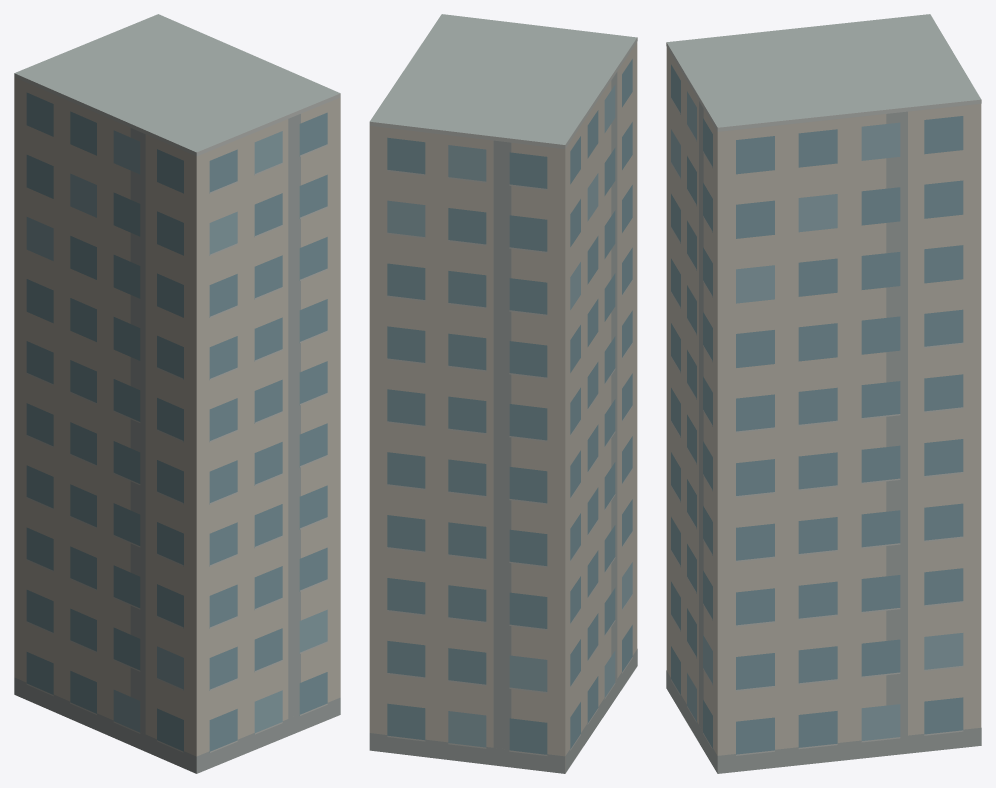
File: residential-23b4f961-2545-4ad0-92bd-beb12fb9d9d1.glb
3 views of the same model, side by side, from view 1: azimuth 30°, elevation 25°; view 2: azimuth 150°, elevation 25°; view 3: azimuth 270°, elevation 25° (orthographic). The views are drawn at different scales.
Parts seen in each view (by area): view 1: residential-23b4f961-2545-4ad0-92bd-beb12fb9d9d1.tmp; view 2: residential-23b4f961-2545-4ad0-92bd-beb12fb9d9d1.tmp; view 3: residential-23b4f961-2545-4ad0-92bd-beb12fb9d9d1.tmp.
Part boxes in pixels (x1,y1,x2,y2): residential-23b4f961-2545-4ad0-92bd-beb12fb9d9d1.tmp: (14, 14, 340, 773); residential-23b4f961-2545-4ad0-92bd-beb12fb9d9d1.tmp: (369, 14, 637, 773); residential-23b4f961-2545-4ad0-92bd-beb12fb9d9d1.tmp: (666, 14, 981, 773).
Bounding box in the file's own units: 14.36 × 38 × 16.8.
